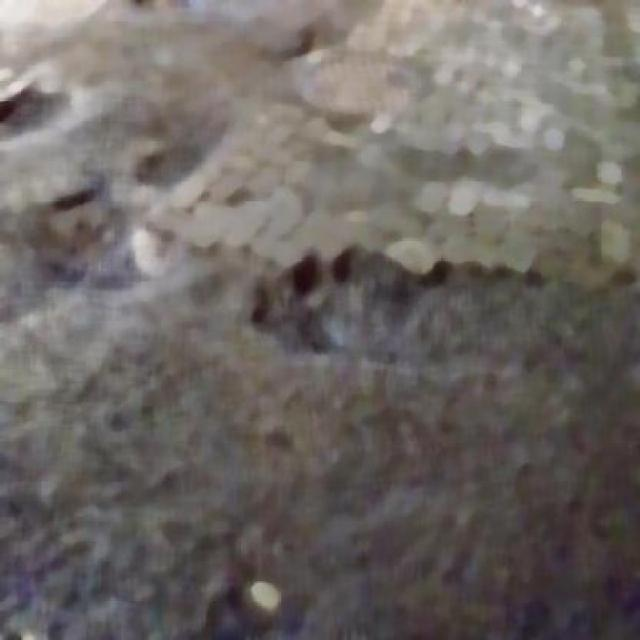Pothole: (274, 253, 574, 369), (24, 190, 136, 301), (0, 79, 55, 148), (138, 0, 218, 29)
